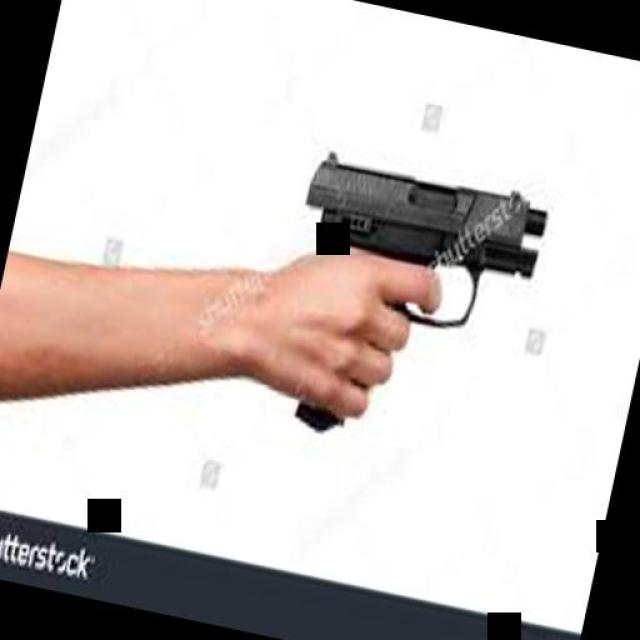gun: (251, 135, 551, 477)
